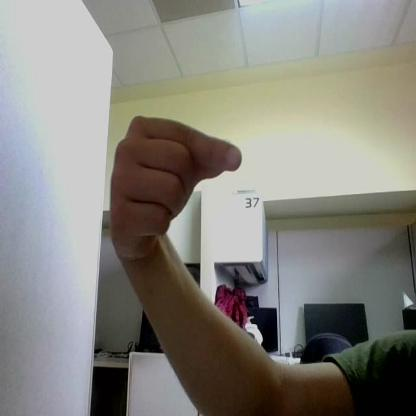G: (110, 117, 240, 258)
